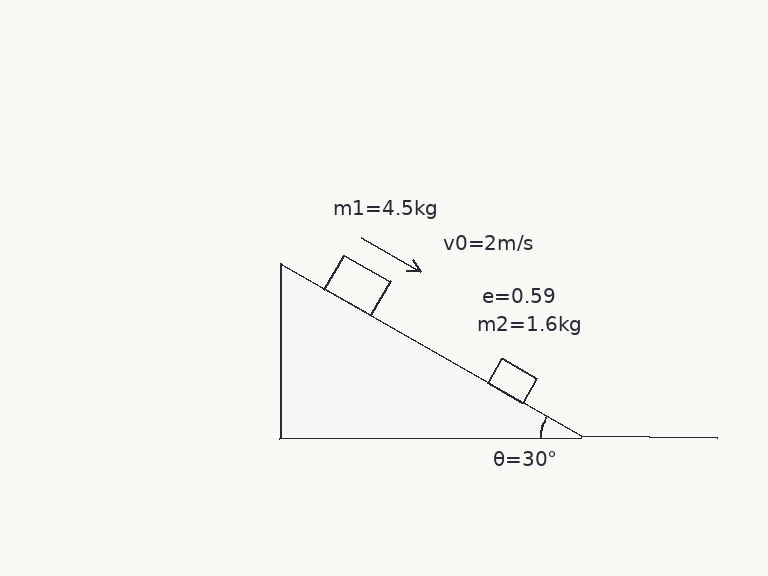block: (322, 253, 392, 317), (486, 356, 538, 405)
ramp: (278, 261, 583, 439)
